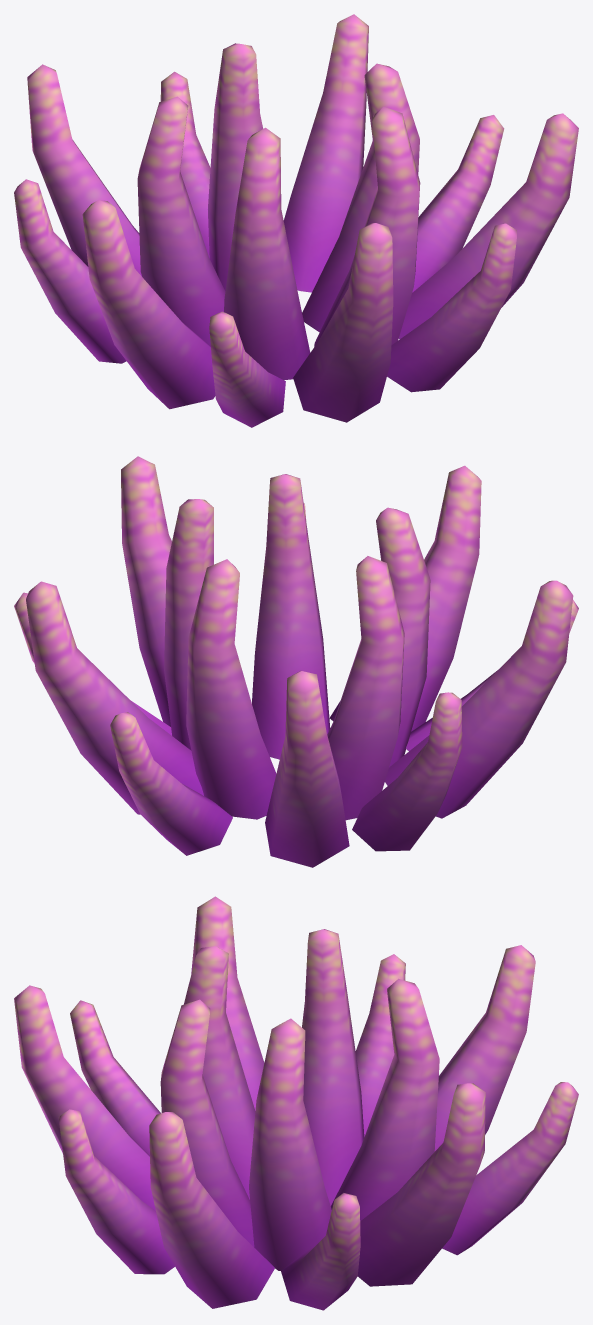
3 renders of one model, top to bottom at view 1: azimuth 30°, elevation 25°; view 2: azimuth 150°, elevation 25°; view 3: azimuth 270°, elevation 25°, orthographic.
Parts seen in each view (by area): view 1: wk_s02_56; view 2: wk_s02_56; view 3: wk_s02_56.
Part boxes in pixels (<box>): wk_s02_56: <box>14,14,578,427</box>; wk_s02_56: <box>14,456,578,867</box>; wk_s02_56: <box>14,896,578,1310</box>.
Size of the model in its own units: 2.72 by 2.78 by 1.46.
1 material, 1 textured.
